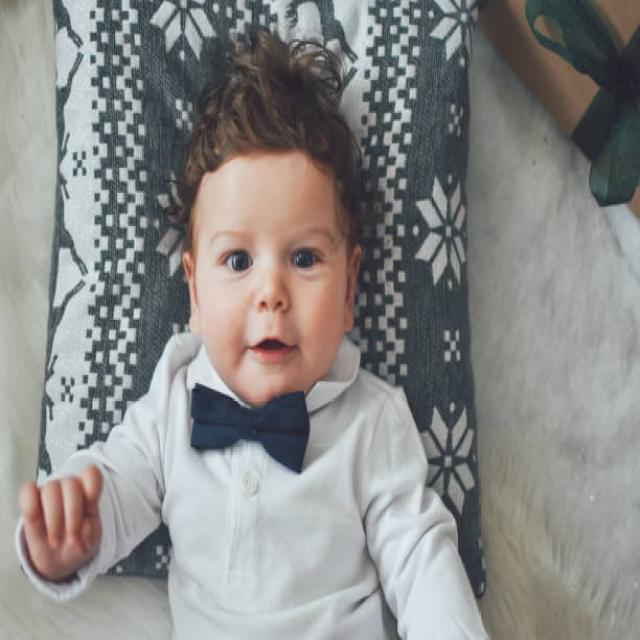non-dog: (15, 24, 481, 633)
